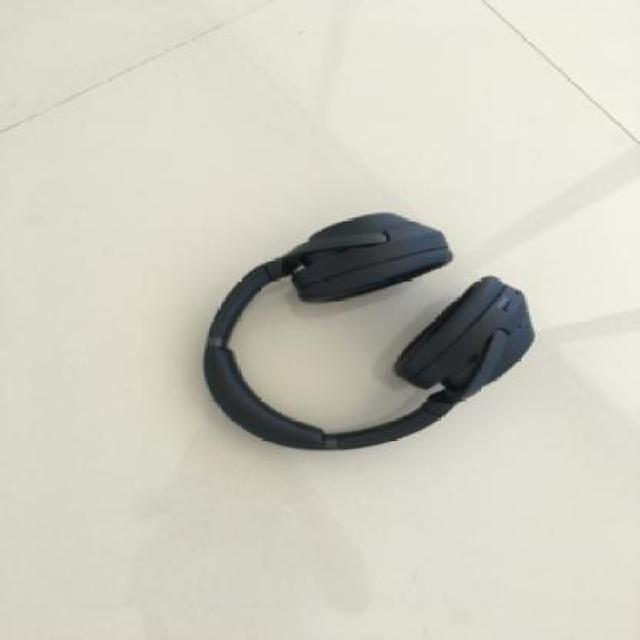earphone: (155, 122, 575, 483)
